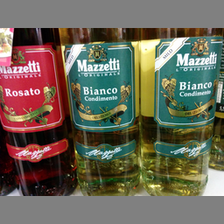vinegar: (61, 28, 145, 196), (140, 27, 221, 194), (1, 27, 75, 196)
